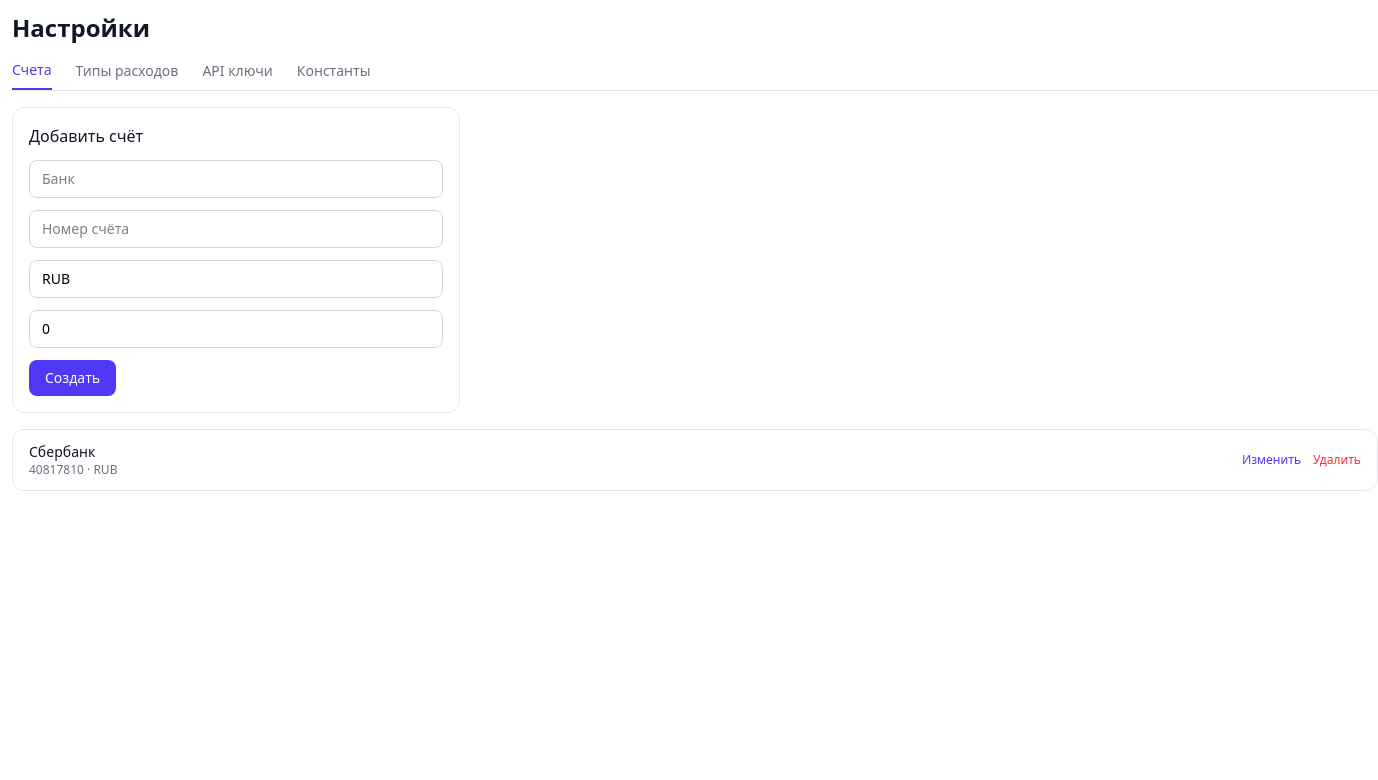
Scenario: Settings — ExpenseTypesTab › shows description when expense type has one
The width and height of the screenshot is (1378, 780).
Click the button "Типы расходов".
click(127, 75)  # box [76,60,178,90]
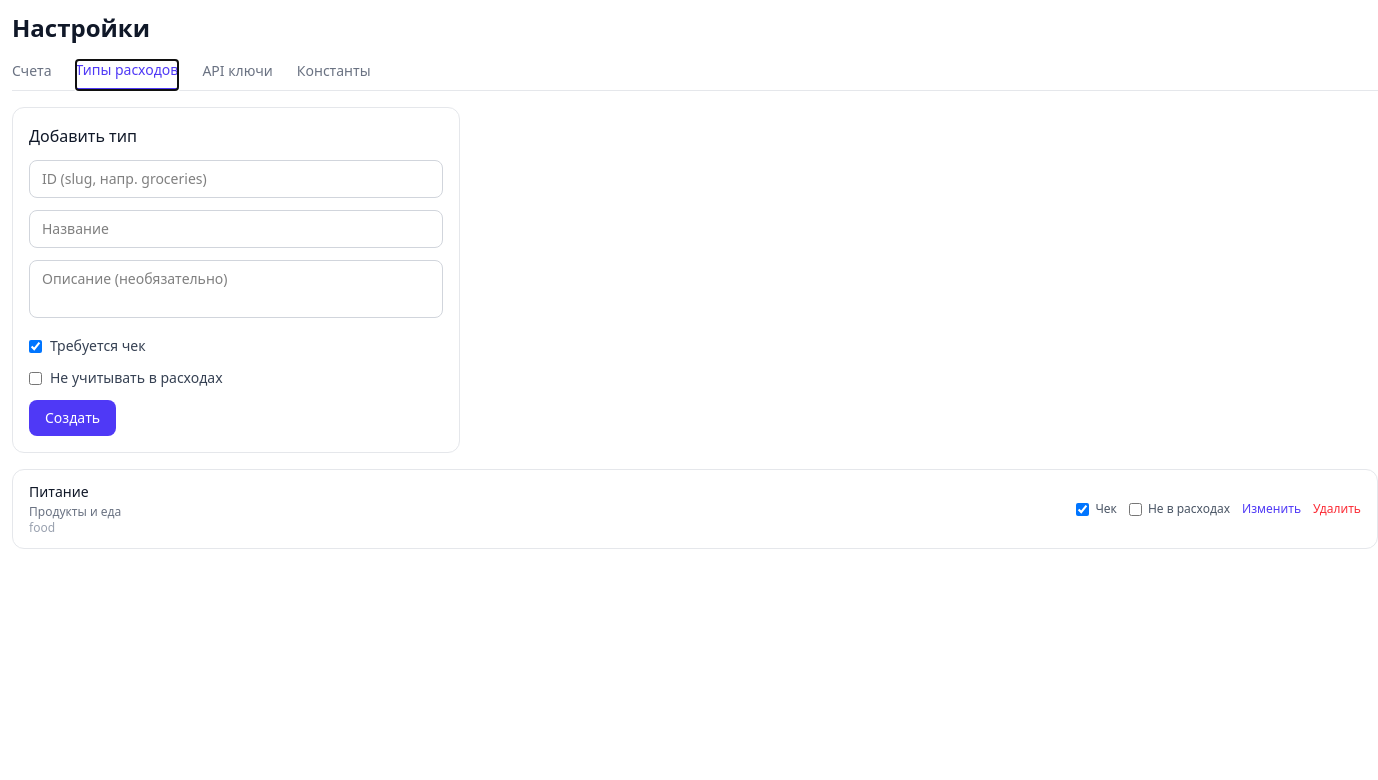
Expected: the text "Продукты и еда" is shown, [29,504,121,520]
